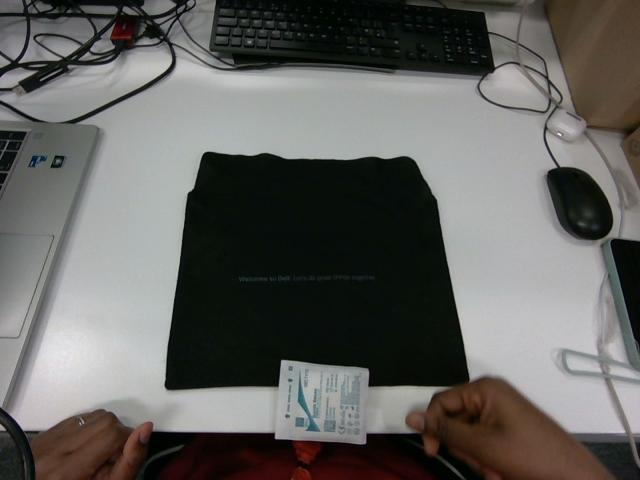gauze: (275, 360, 368, 443)
